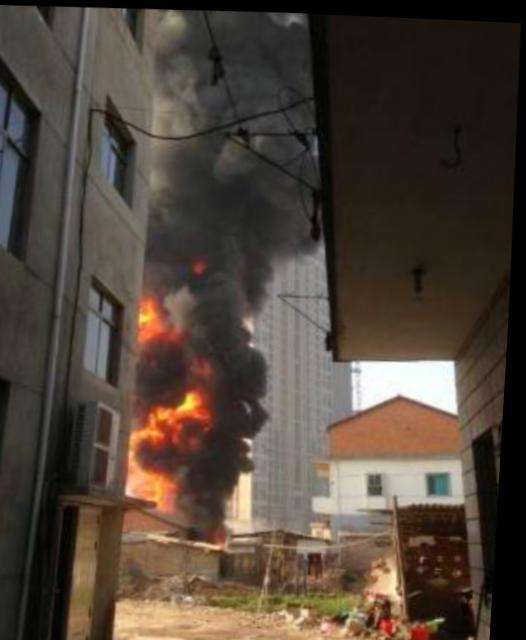fire: (135, 465, 178, 503), (175, 386, 218, 421), (146, 400, 177, 436), (139, 294, 163, 335), (128, 428, 144, 489)
